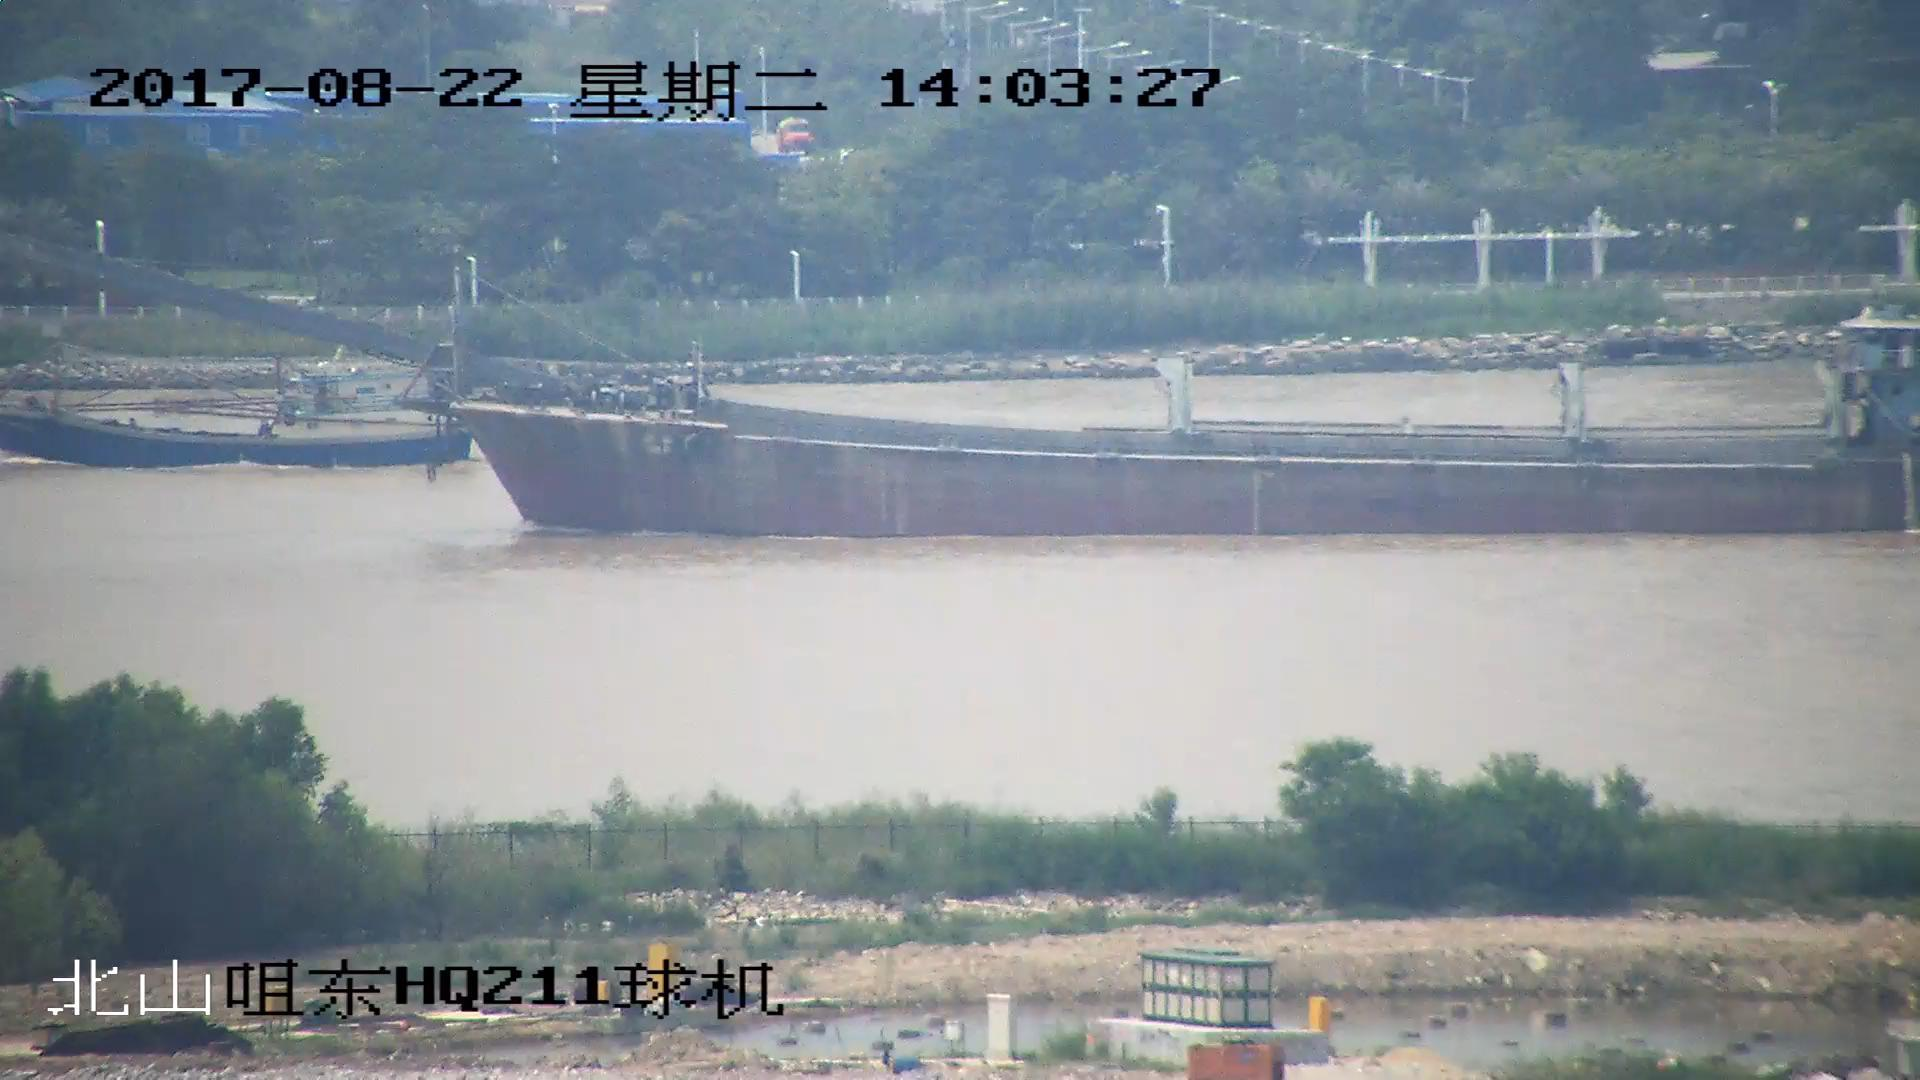Ship: (3, 243, 1920, 537), (3, 361, 481, 465)
